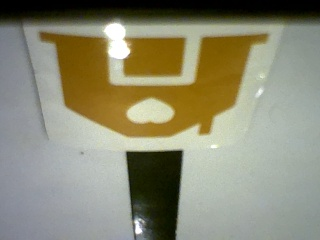Rescue_Station: (40, 31, 270, 137)
